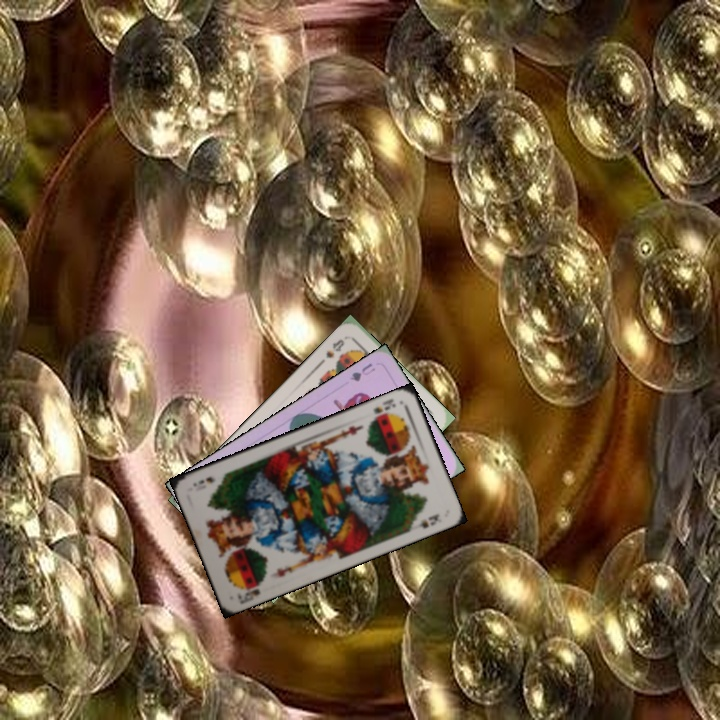GU: (346, 359, 378, 384)
S8: (321, 335, 347, 361)
SK: (369, 395, 399, 417), (233, 584, 263, 606)
